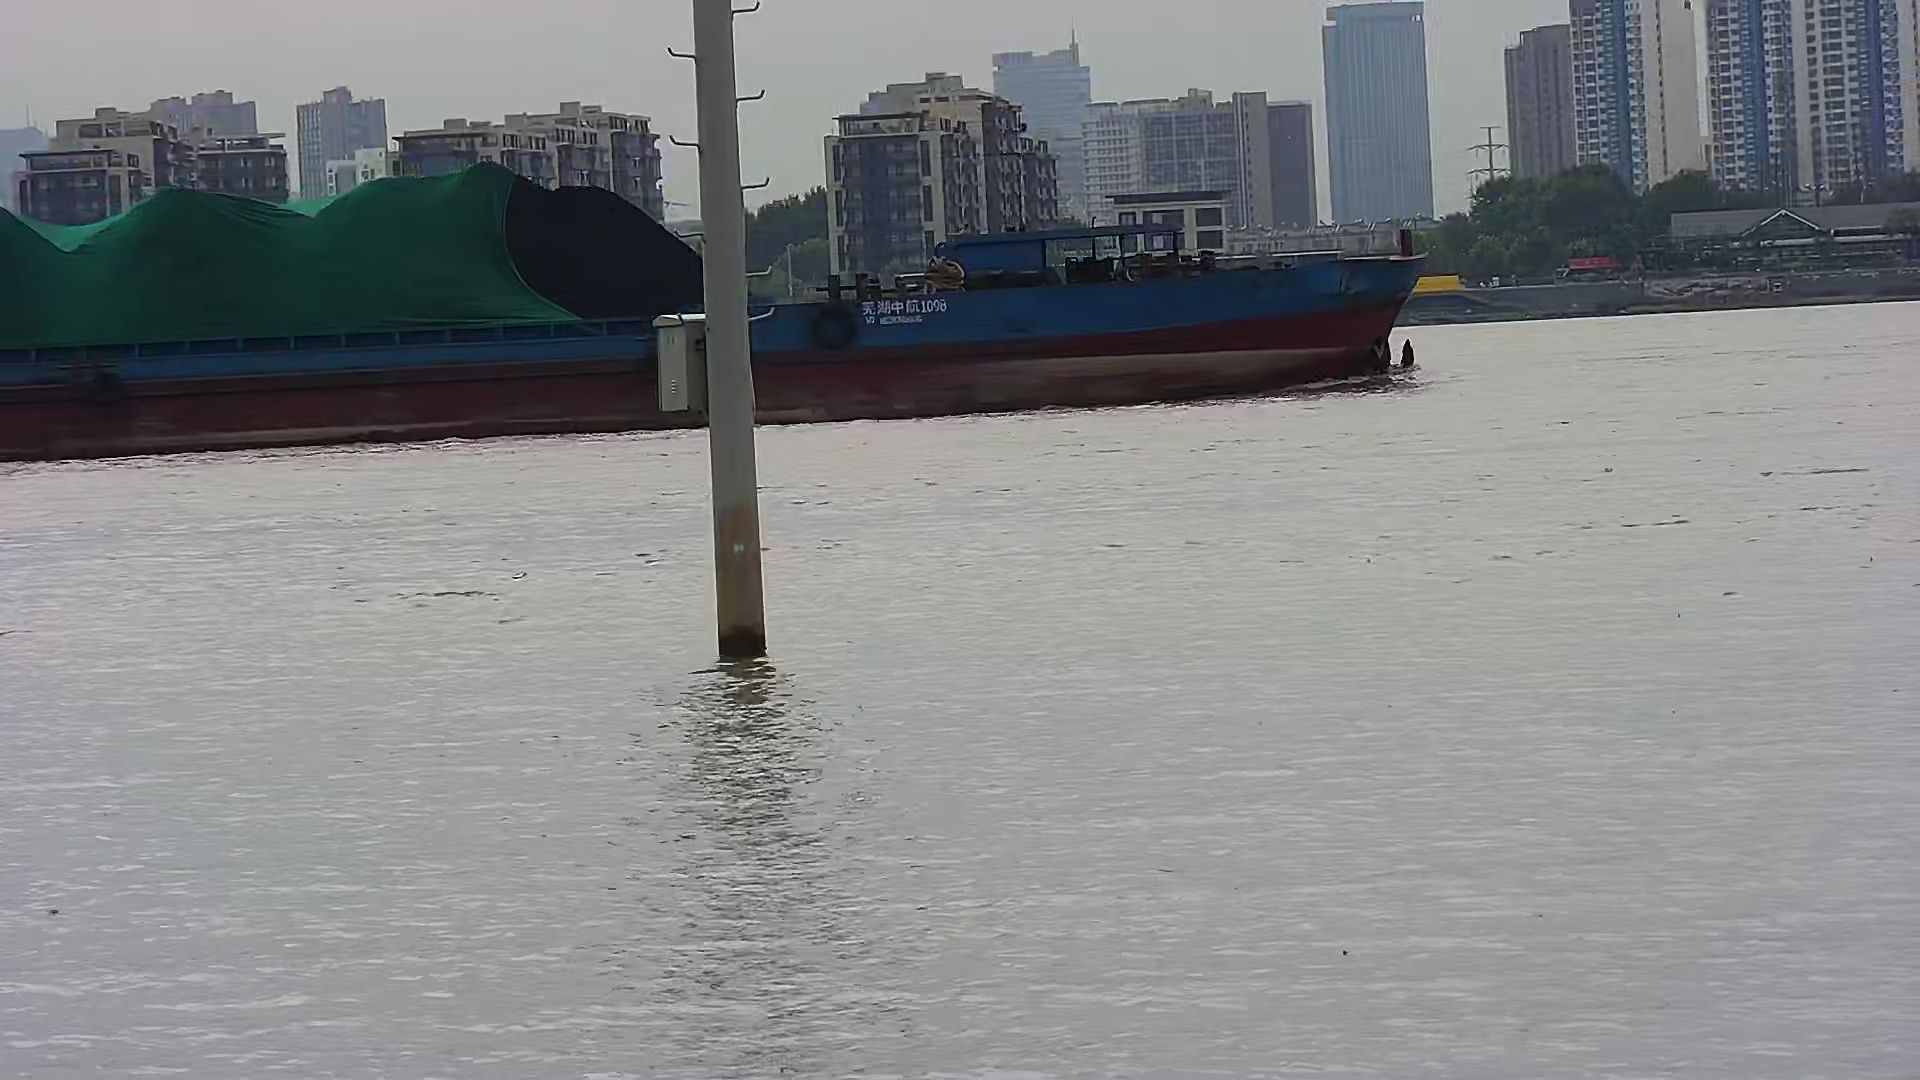mast: (621, 1, 808, 694)
ship: (5, 144, 1439, 462)
